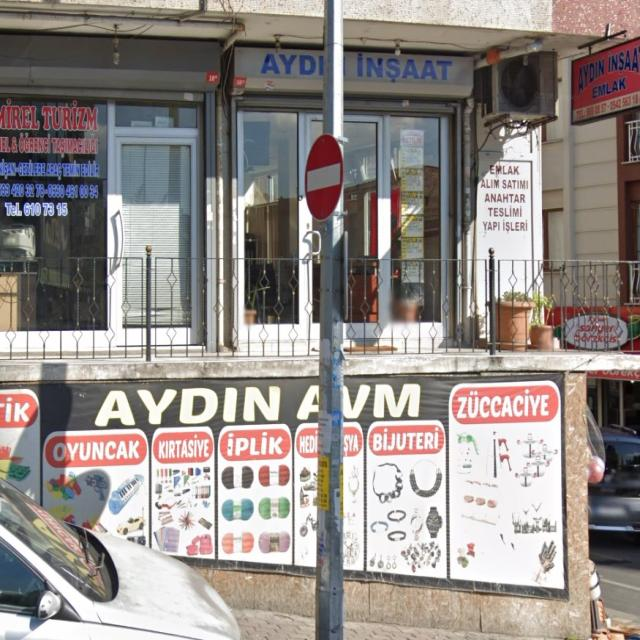girisyok: (304, 134, 344, 222)
